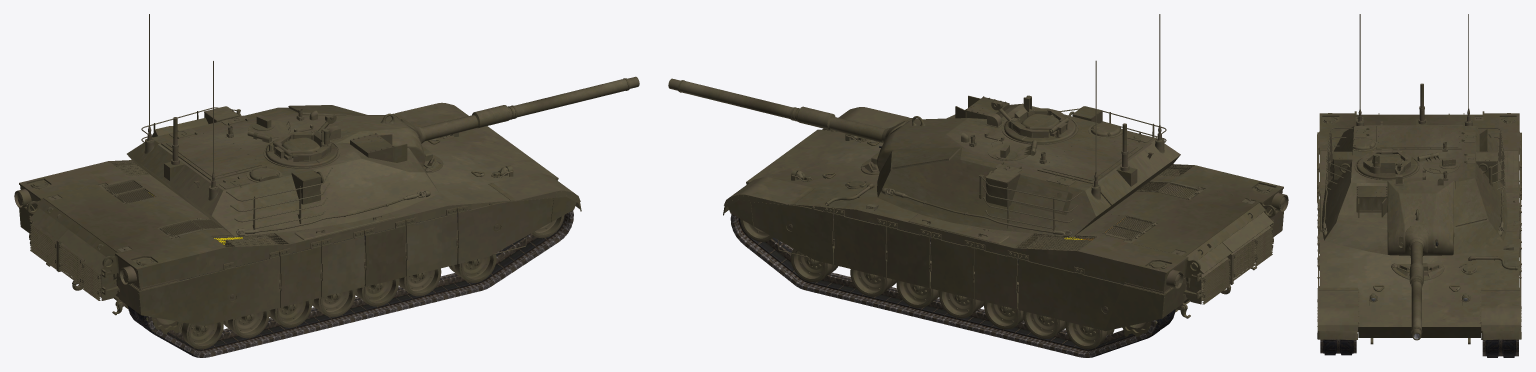
The model's file is xm1-module-placeholder.glb.
The picture shows the model from 3 angles, left to right: view 1: azimuth 30°, elevation 25°; view 2: azimuth 150°, elevation 25°; view 3: azimuth 270°, elevation 25°; orthographic projection. The views are drawn at different scales.
Parts seen in each view (by area): view 1: @root, bone_turret, track_r, ex_armor_r_01, ex_armor_r_06, gun_barrel, ex_armor_r_02, ex_armor_r_07, ex_armor_r_04, ex_armor_r_05, ex_armor_r_03, bone_turret_01 (+13 smaller); view 2: @root, bone_turret, track_l, ex_armor_l_06, ex_armor_l_01, gun_barrel, ex_armor_l_02, ex_armor_l_03, ex_armor_l_04, ex_armor_l_05, ex_armor_l_07, bone_turret_01 (+14 smaller); view 3: bone_turret, @root, ex_armor_l_08, ex_armor_r_08, bone_turret_01, gun_barrel, track_l, track_r, hatch_04, bone_gun, hatch_08, hatch_01 (+6 smaller).
Part boxes in pixels (x1=…): @root: x1=14, y1=114, x2=558, y2=308; bone_turret: x1=127, y1=105, x2=439, y2=236; track_r: x1=128, y1=209, x2=573, y2=357; ex_armor_r_01: x1=456, y1=197, x2=576, y2=263; ex_armor_r_06: x1=189, y1=251, x2=280, y2=325; gun_barrel: x1=421, y1=76, x2=639, y2=140; ex_armor_r_02: x1=405, y1=207, x2=458, y2=276; ex_armor_r_07: x1=117, y1=278, x2=205, y2=325; ex_armor_r_04: x1=320, y1=230, x2=365, y2=297; ex_armor_r_05: x1=279, y1=240, x2=322, y2=307; ex_armor_r_03: x1=364, y1=220, x2=406, y2=286; bone_turret_01: x1=265, y1=114, x2=337, y2=167; @root: x1=746, y1=118, x2=1288, y2=312; bone_turret: x1=877, y1=95, x2=1180, y2=237; track_l: x1=730, y1=214, x2=1175, y2=357; ex_armor_l_06: x1=1017, y1=253, x2=1123, y2=330; ex_armor_l_01: x1=728, y1=201, x2=834, y2=264; gun_barrel: x1=668, y1=78, x2=885, y2=142; ex_armor_l_02: x1=833, y1=208, x2=887, y2=277; ex_armor_l_03: x1=886, y1=221, x2=931, y2=288; ex_armor_l_04: x1=930, y1=232, x2=974, y2=298; ex_armor_l_05: x1=973, y1=242, x2=1018, y2=309; ex_armor_l_07: x1=1105, y1=282, x2=1185, y2=331; bone_turret_01: x1=991, y1=95, x2=1075, y2=143; bone_turret: x1=1321, y1=83, x2=1507, y2=255; @root: x1=1317, y1=111, x2=1521, y2=344; ex_armor_l_08: x1=1479, y1=287, x2=1521, y2=339; ex_armor_r_08: x1=1317, y1=287, x2=1359, y2=339; bone_turret_01: x1=1356, y1=148, x2=1417, y2=179; gun_barrel: x1=1409, y1=242, x2=1423, y2=340; track_l: x1=1482, y1=339, x2=1518, y2=357; track_r: x1=1320, y1=339, x2=1356, y2=355; hatch_04: x1=1423, y1=152, x2=1459, y2=173; bone_gun: x1=1405, y1=225, x2=1428, y2=255; hatch_08: x1=1391, y1=263, x2=1444, y2=280; hatch_01: x1=1506, y1=193, x2=1518, y2=231.
Size of the model in its own units: 9.76 by 4.47 by 3.57.
12 materials, 8 textured.
